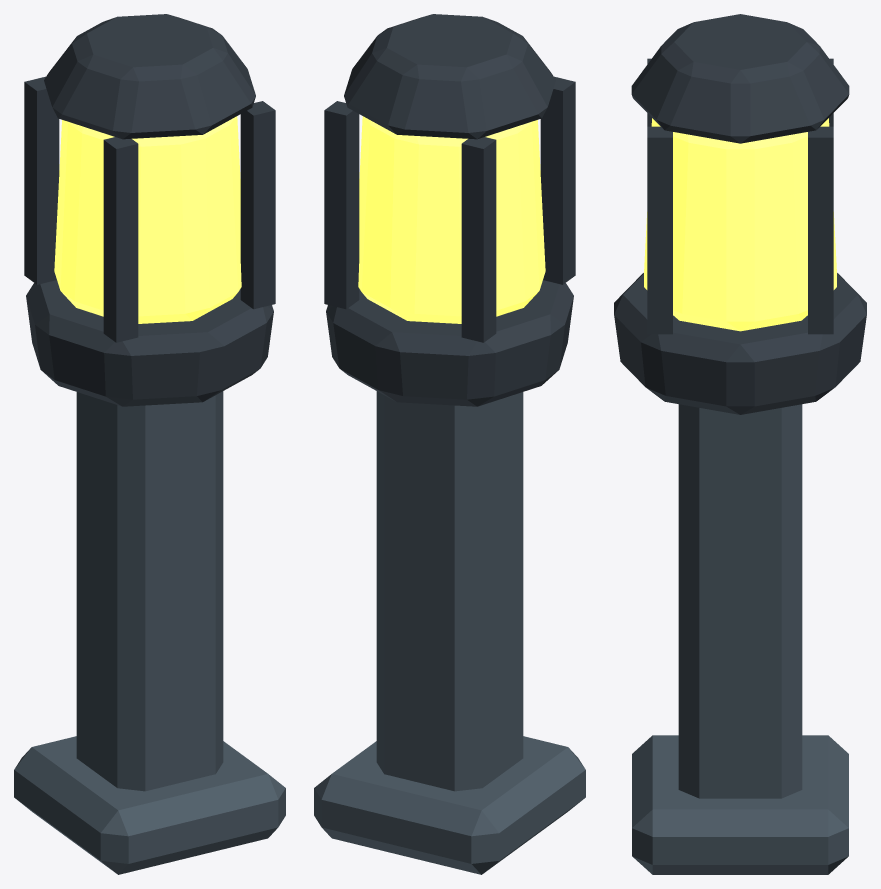
The model's file is Station_Beacon.fbx.
The picture shows the model from 3 angles, left to right: view 1: azimuth 30°, elevation 25°; view 2: azimuth 150°, elevation 25°; view 3: azimuth 270°, elevation 25°; orthographic projection.
Parts seen in each view (by area): view 1: Frame, FrameDark, Lens; view 2: Frame, FrameDark, Lens; view 3: Frame, FrameDark, Lens.
Part boxes in pixels (<box>): Frame: <box>14,391,285,874</box>; FrameDark: <box>24,14,275,406</box>; Lens: <box>54,116,241,323</box>; Frame: <box>314,391,585,874</box>; FrameDark: <box>324,14,575,406</box>; Lens: <box>358,116,545,323</box>; Frame: <box>632,404,848,874</box>; FrameDark: <box>614,14,866,414</box>; Lens: <box>644,118,836,331</box>.
Bounding box in the file's own units: 0.4896 × 1.7 × 0.4896.
